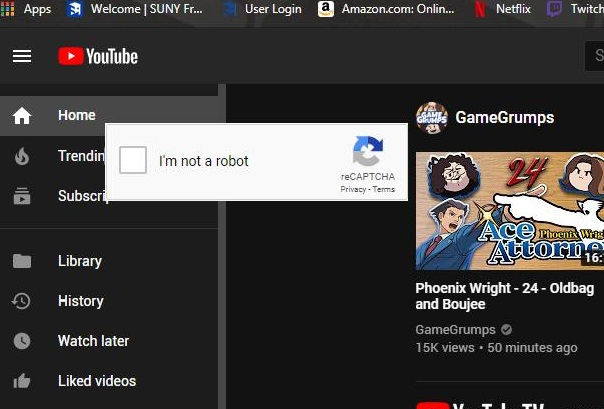captcha: (120, 145, 249, 175)
